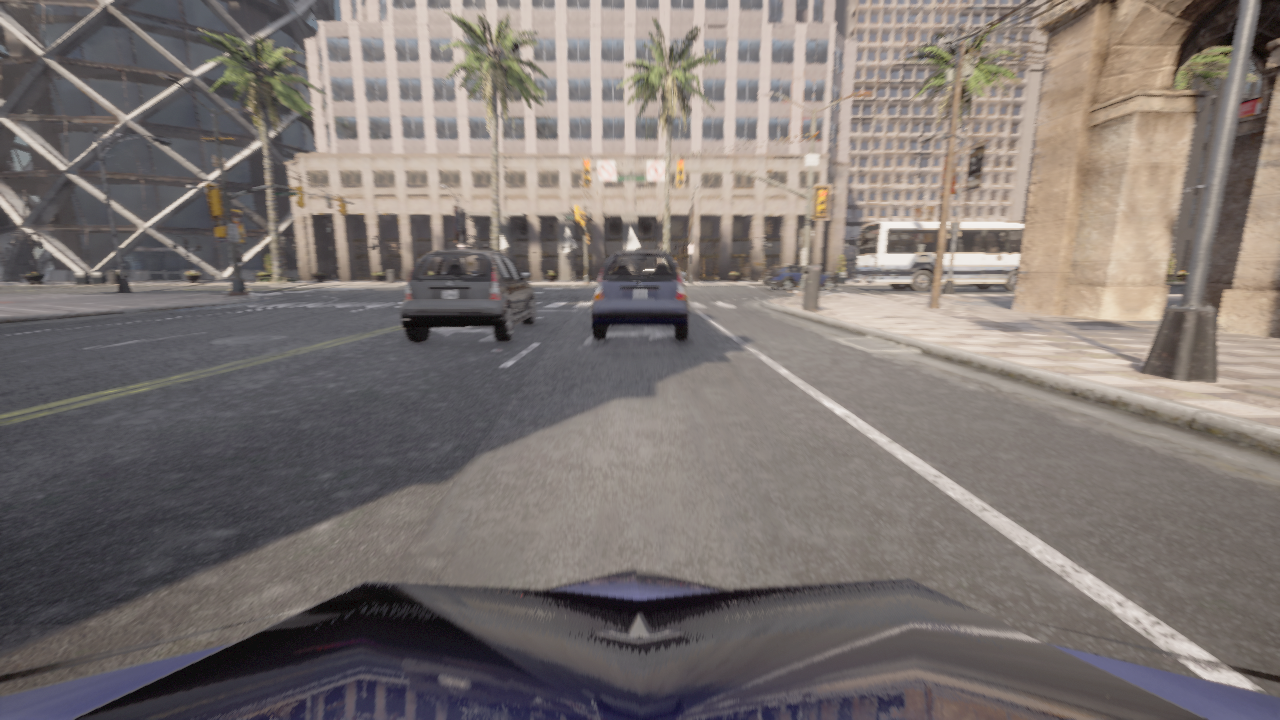cyclist: (0, 569, 1279, 719), (400, 249, 535, 342), (855, 222, 1024, 291), (591, 250, 689, 340), (763, 265, 839, 291), (968, 283, 973, 285)
